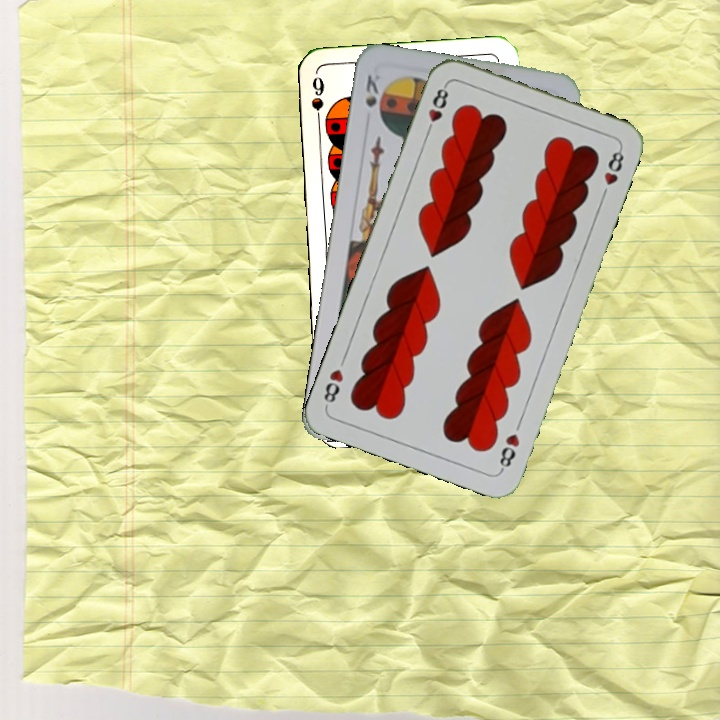H8: (422, 80, 451, 138), (495, 429, 523, 474)
S9: (307, 73, 327, 132)
SK: (361, 70, 384, 110)
